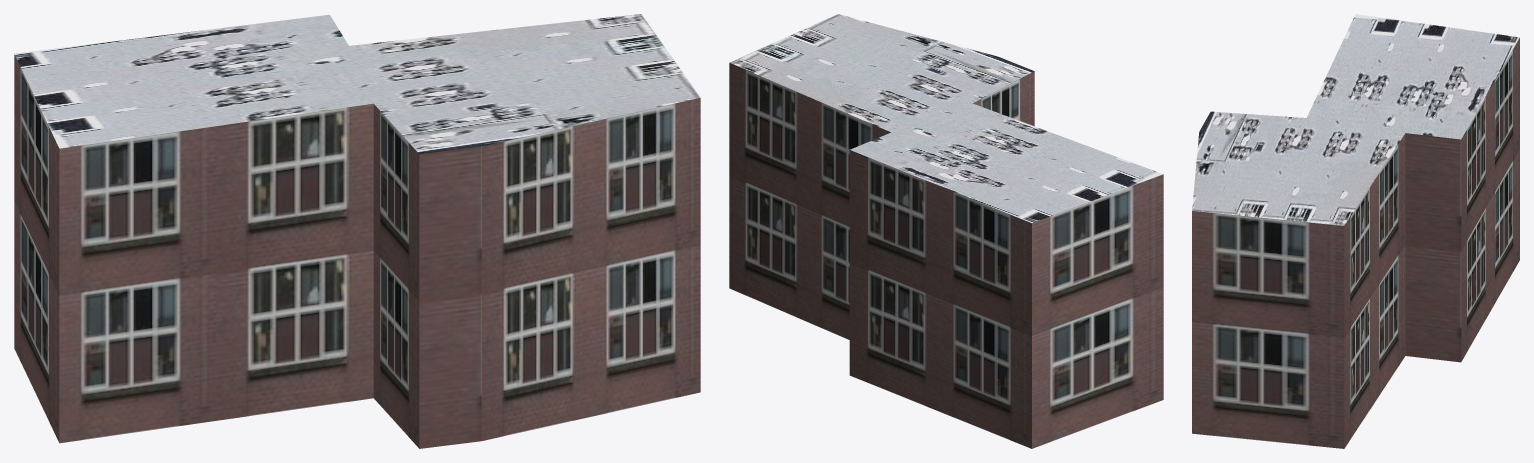
File: ResTex__4652.fbx
The picture shows the model from 3 angles, left to right: view 1: azimuth 30°, elevation 25°; view 2: azimuth 150°, elevation 25°; view 3: azimuth 270°, elevation 25°; orthographic projection. The views are drawn at different scales.
Visible parts, largest first — view 1: CityEngineMaterial_12_m, CityEngineMaterial_8_m; view 2: CityEngineMaterial_12_m, CityEngineMaterial_8_m; view 3: CityEngineMaterial_12_m, CityEngineMaterial_8_m.
Boxes of the visible parts, <box> form: CityEngineMaterial_12_m: <box>14,54,700,448</box>; CityEngineMaterial_8_m: <box>14,14,700,154</box>; CityEngineMaterial_12_m: <box>729,63,1163,448</box>; CityEngineMaterial_8_m: <box>729,14,1162,222</box>; CityEngineMaterial_12_m: <box>1192,38,1519,448</box>; CityEngineMaterial_8_m: <box>1192,14,1519,225</box>.
Bounding box in the file's own units: 12.24 × 6 × 8.
Materials: 2 (2 with a texture image).
